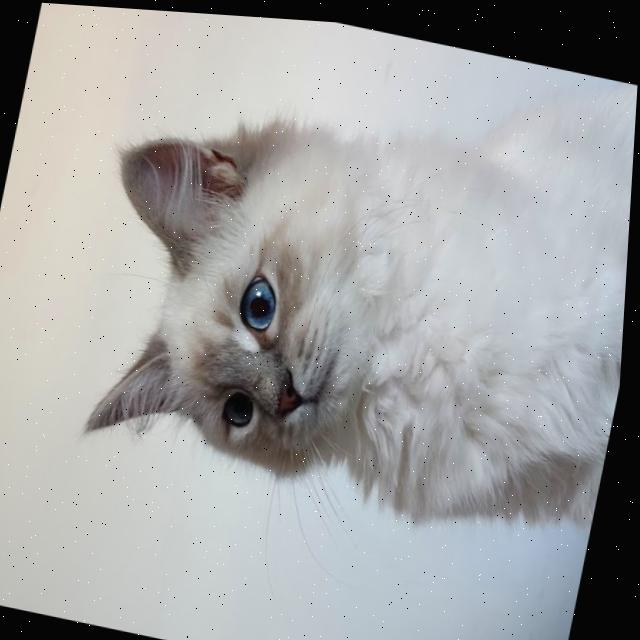Neva Masquerade: (56, 4, 640, 559)
